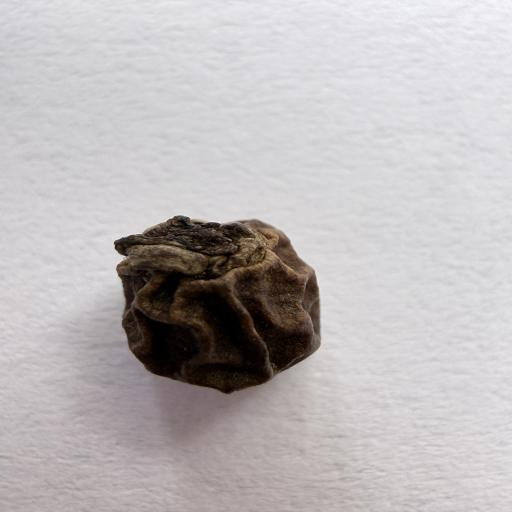Black_pepper: (93, 194, 356, 401)
